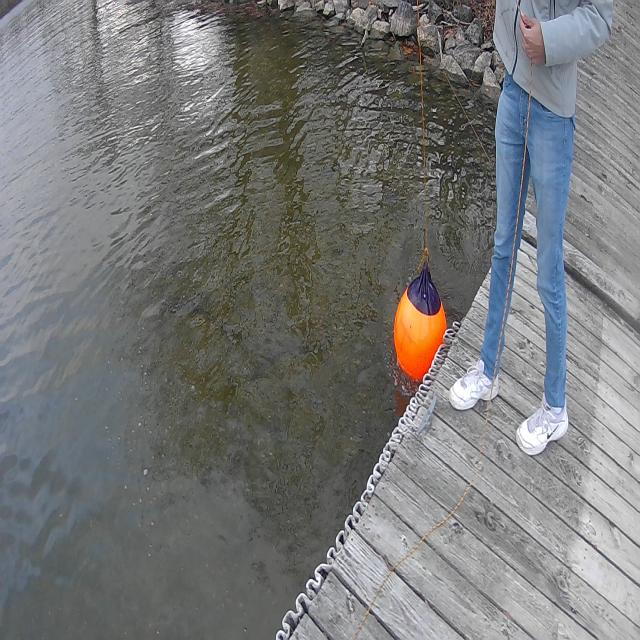Buoy: (390, 255, 452, 394)
